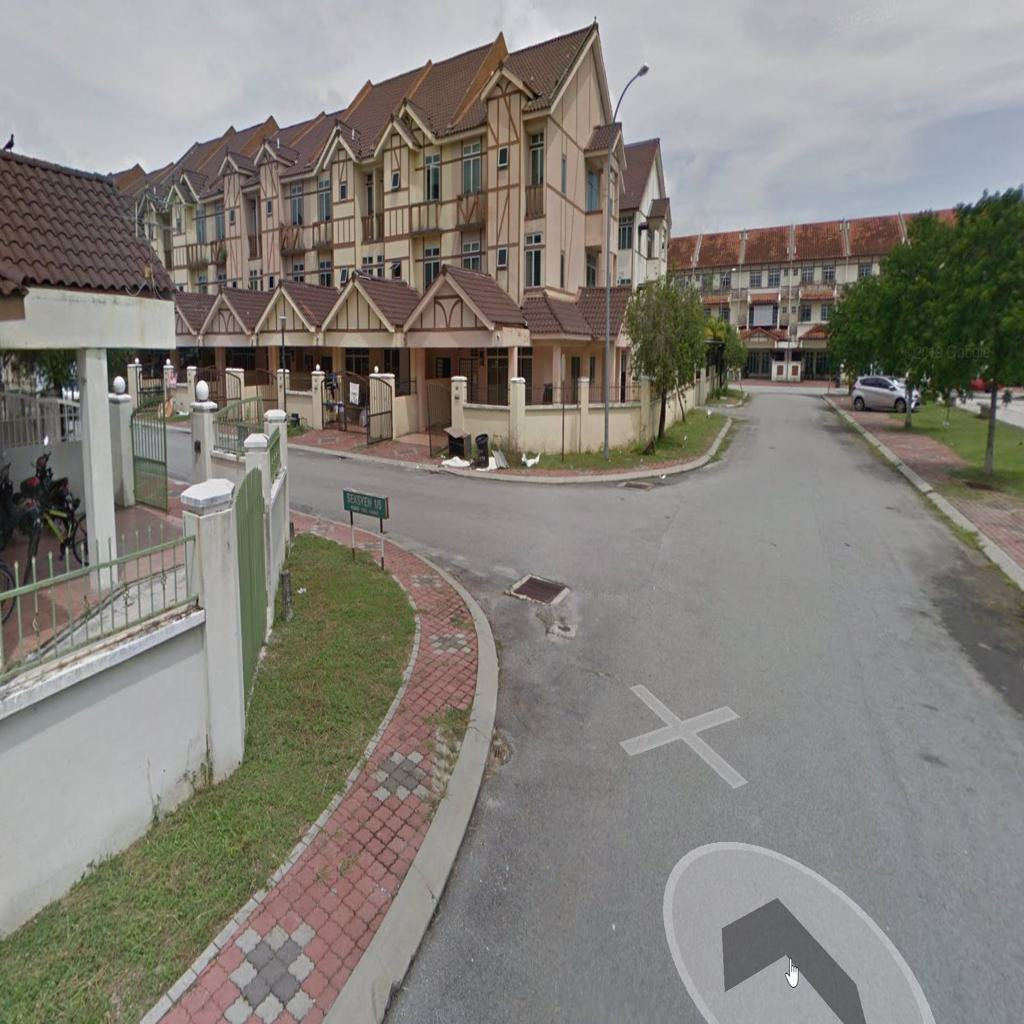Junction: (301, 436, 759, 750)
